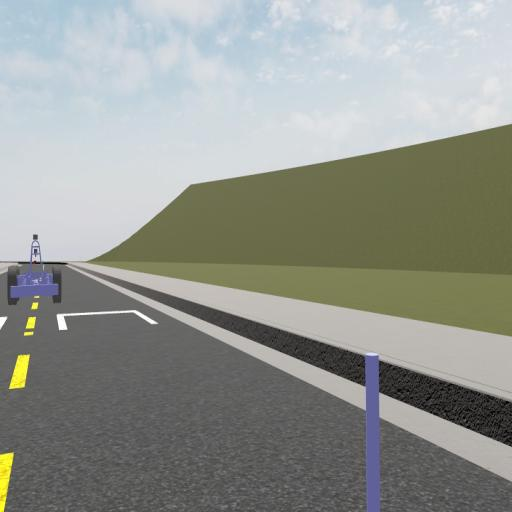ERP-42: (7, 236, 62, 304)
